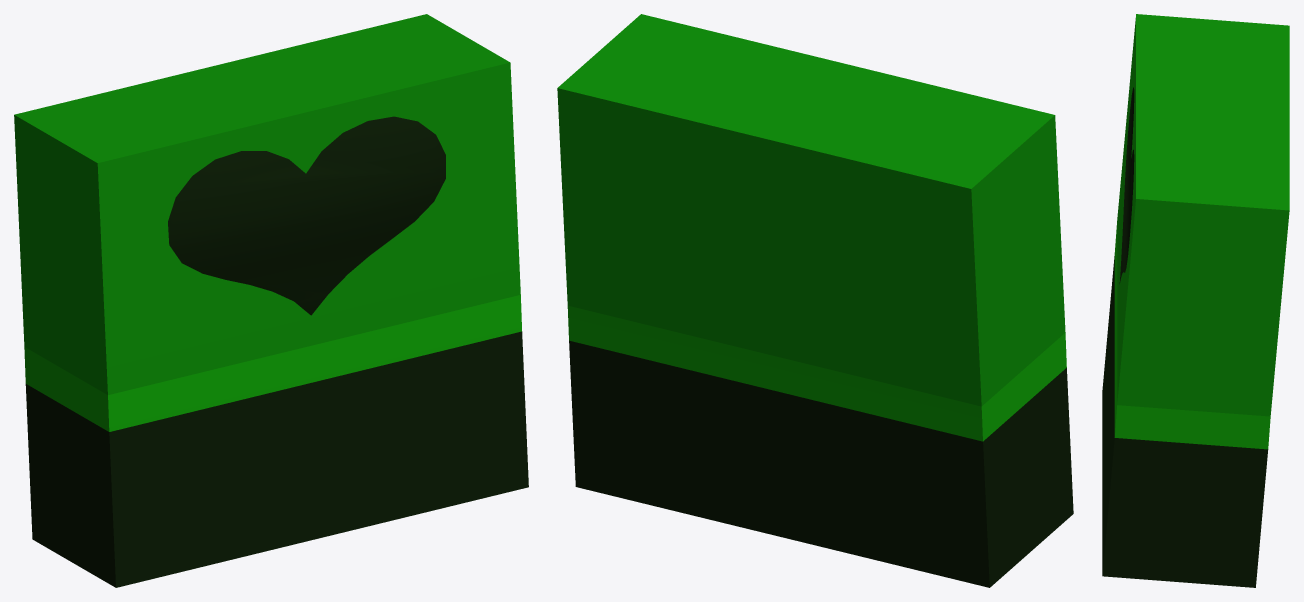
Rendered from Torso_Bend.fbx.
3 renders of one model, left to right at view 1: azimuth 30°, elevation 25°; view 2: azimuth 150°, elevation 25°; view 3: azimuth 270°, elevation 25°, orthographic. The views are drawn at different scales.
Parts seen in each view (by area): view 1: Torso_Bend; view 2: Torso_Bend; view 3: Torso_Bend.
Boxes of the visible parts, bbox=[...] form: Torso_Bend: bbox=[14, 14, 528, 587]; Torso_Bend: bbox=[557, 14, 1073, 587]; Torso_Bend: bbox=[1102, 14, 1289, 587].
Size of the model in its own units: 113 by 110 by 48.17.
